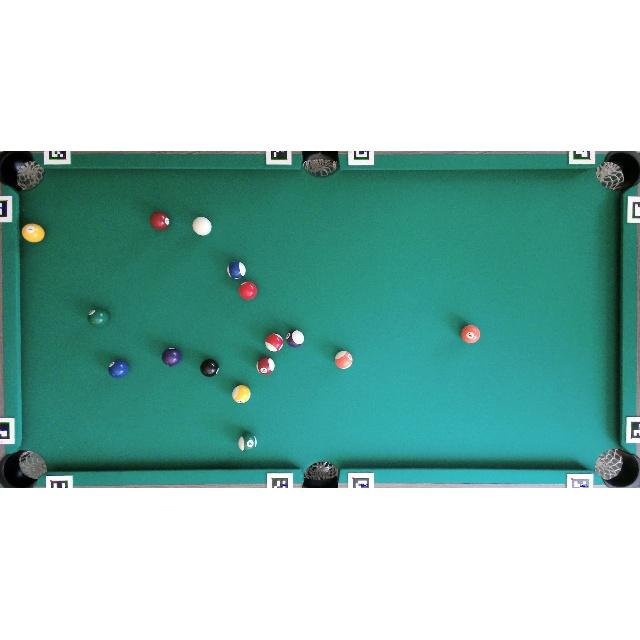cue ball: (192, 217, 212, 236)
other: (21, 222, 45, 243), (149, 211, 170, 231), (108, 359, 129, 379), (238, 280, 258, 300), (264, 333, 284, 352), (200, 359, 220, 377), (238, 434, 258, 452), (88, 309, 109, 326), (461, 325, 480, 343), (162, 348, 181, 366), (256, 357, 275, 375), (232, 385, 250, 404), (335, 351, 353, 369), (227, 261, 245, 279), (286, 330, 304, 347)
